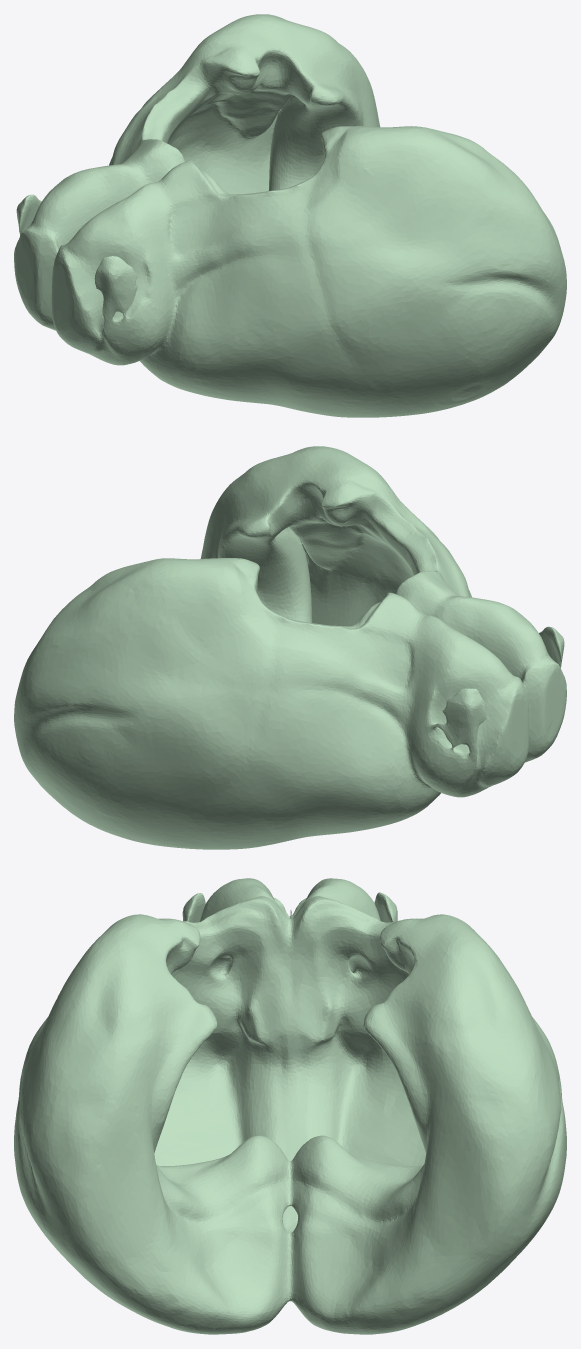
3 views of the same model, one above another, from view 1: azimuth 30°, elevation 25°; view 2: azimuth 150°, elevation 25°; view 3: azimuth 270°, elevation 25° (orthographic). The views are drawn at different scales.
Visible parts, largest first — view 1: 688.obj; view 2: 688.obj; view 3: 688.obj.
Boxes of the visible parts, x1,y1,x2,y2 form: 688.obj: (14,14,566,417); 688.obj: (14,446,566,849); 688.obj: (14,878,566,1334).
Size of the model in its own units: 10433 by 7409 by 10384.
